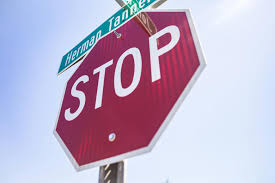stop sign: (56, 5, 203, 171)
